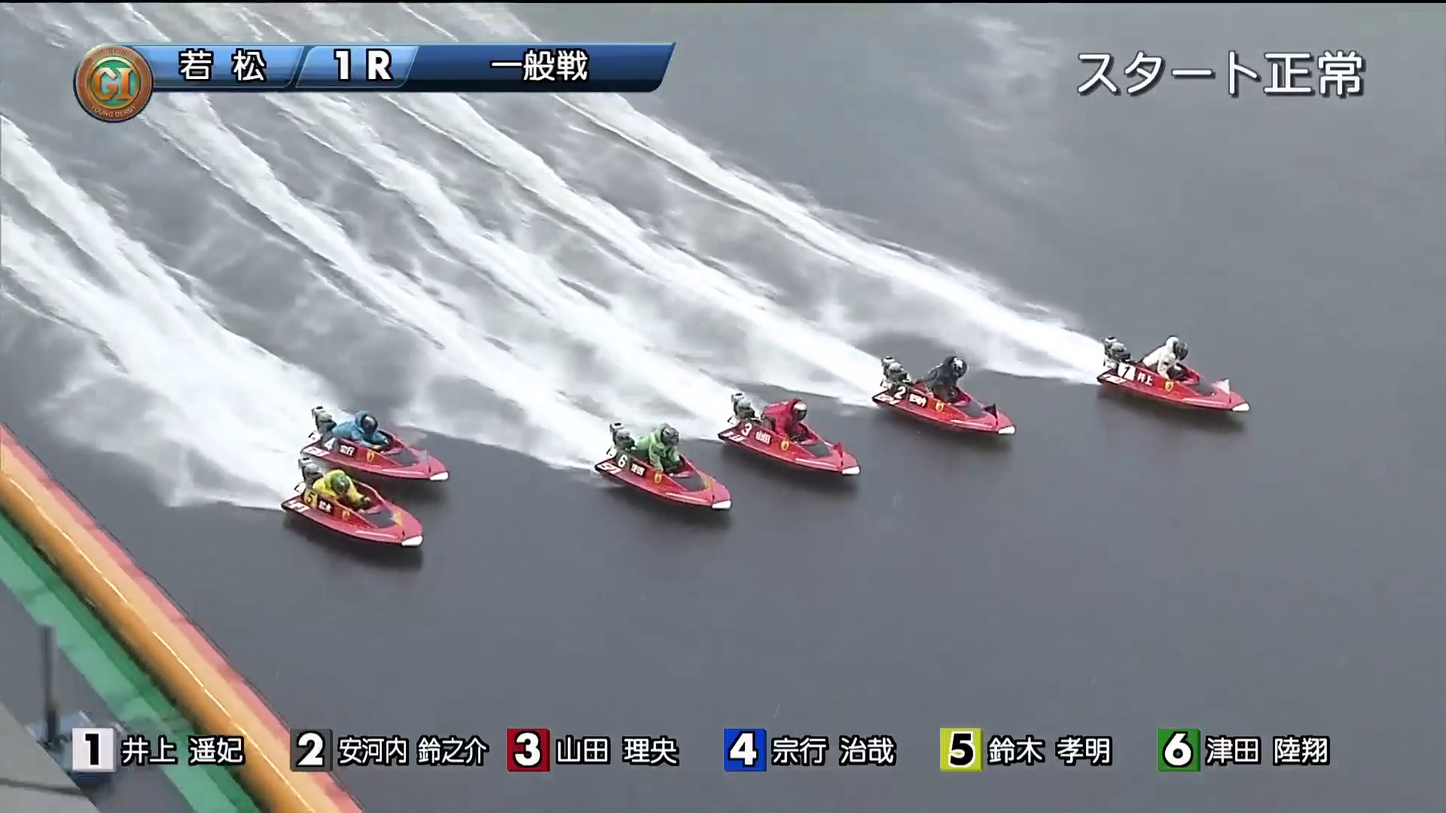１号艇: (1111, 348, 1241, 400)
２号艇: (889, 366, 1012, 423)
３号艇: (750, 425, 883, 467)
４号艇: (621, 453, 739, 515)
５号艇: (332, 430, 455, 485)
６号艇: (338, 513, 437, 569)
